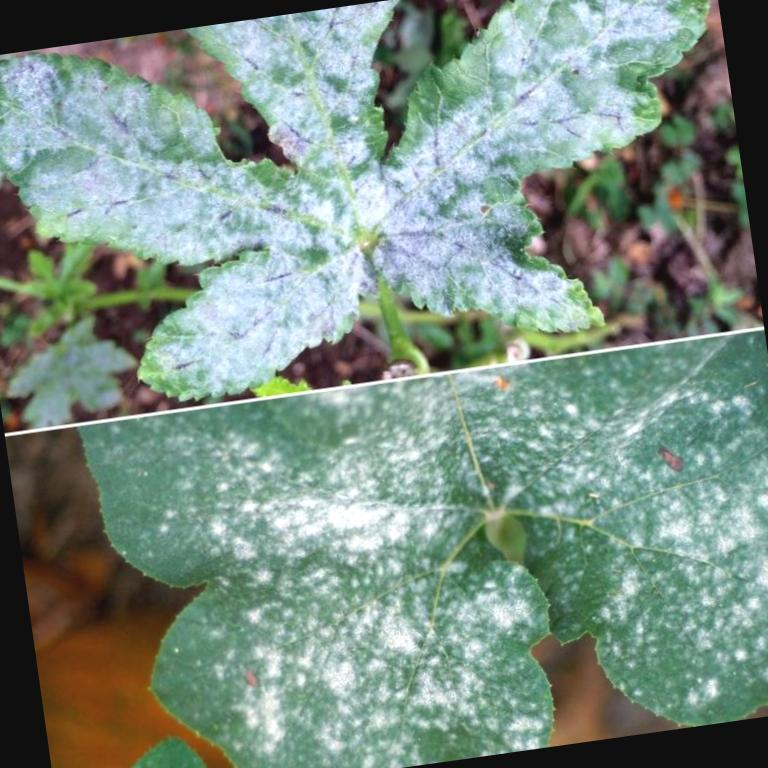powdery-mildew: (227, 576, 512, 760), (566, 379, 760, 646), (186, 398, 438, 566), (38, 100, 208, 236), (368, 156, 502, 284), (476, 29, 620, 135), (260, 13, 364, 145)
